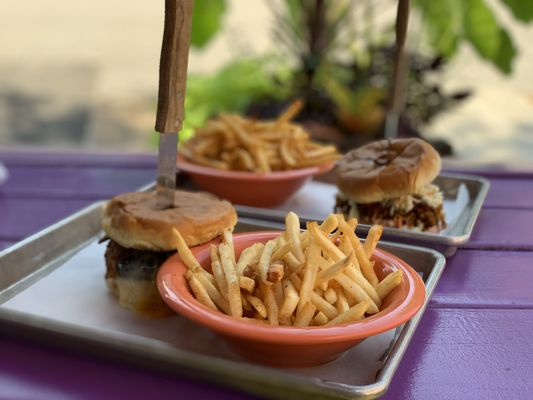soup: (99, 184, 238, 304), (333, 137, 446, 233)
sushi: (155, 212, 426, 368), (176, 100, 347, 208)
